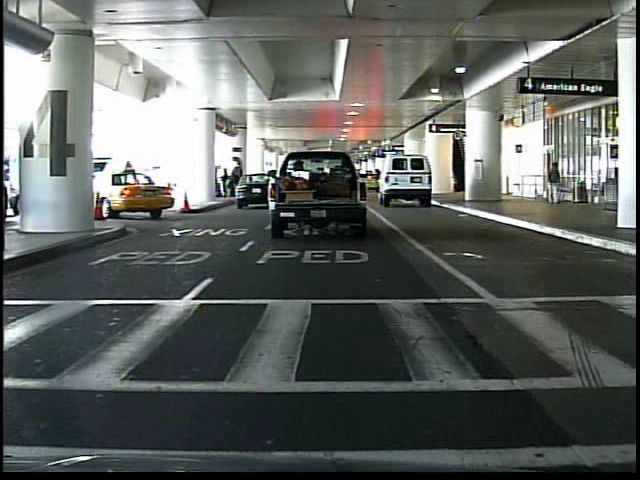person: (543, 158, 564, 209)
